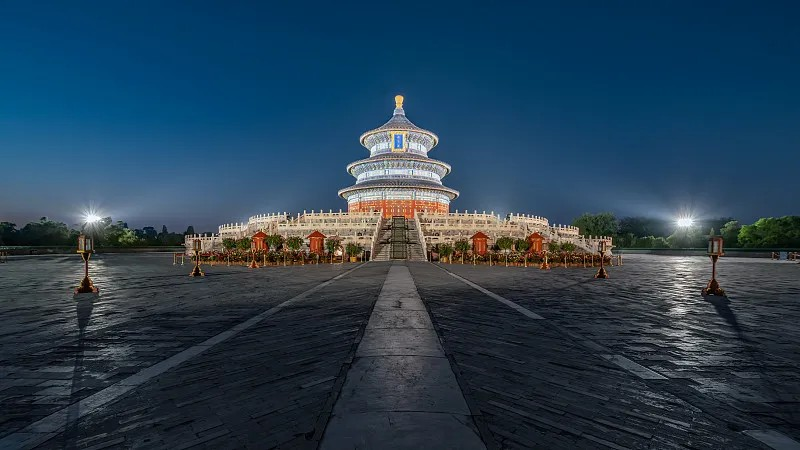Heaven: (336, 93, 460, 219)
